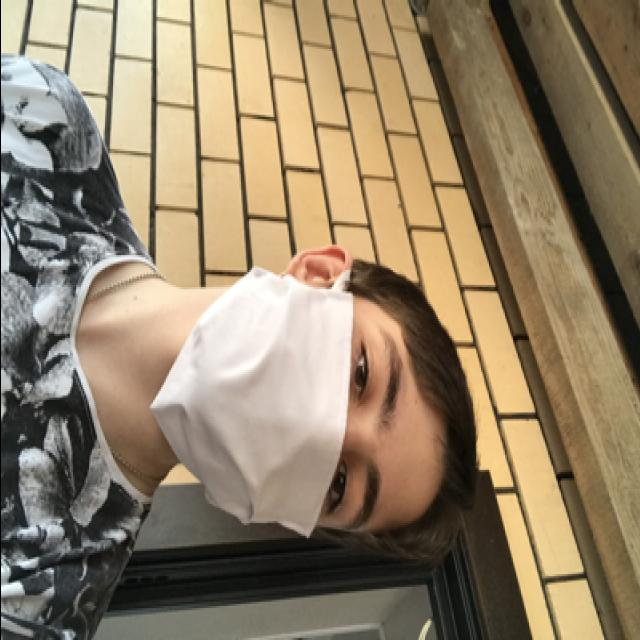with_mask: (150, 266, 412, 540)
